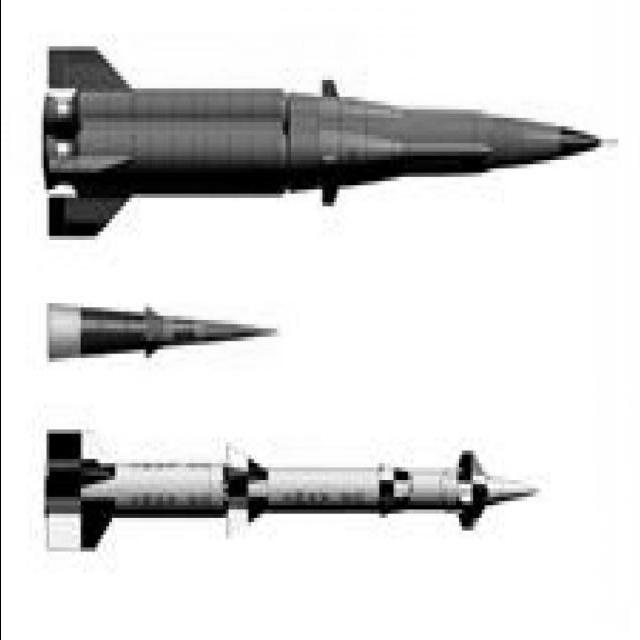Missile: (38, 37, 618, 250), (35, 421, 548, 546), (30, 290, 292, 376)
